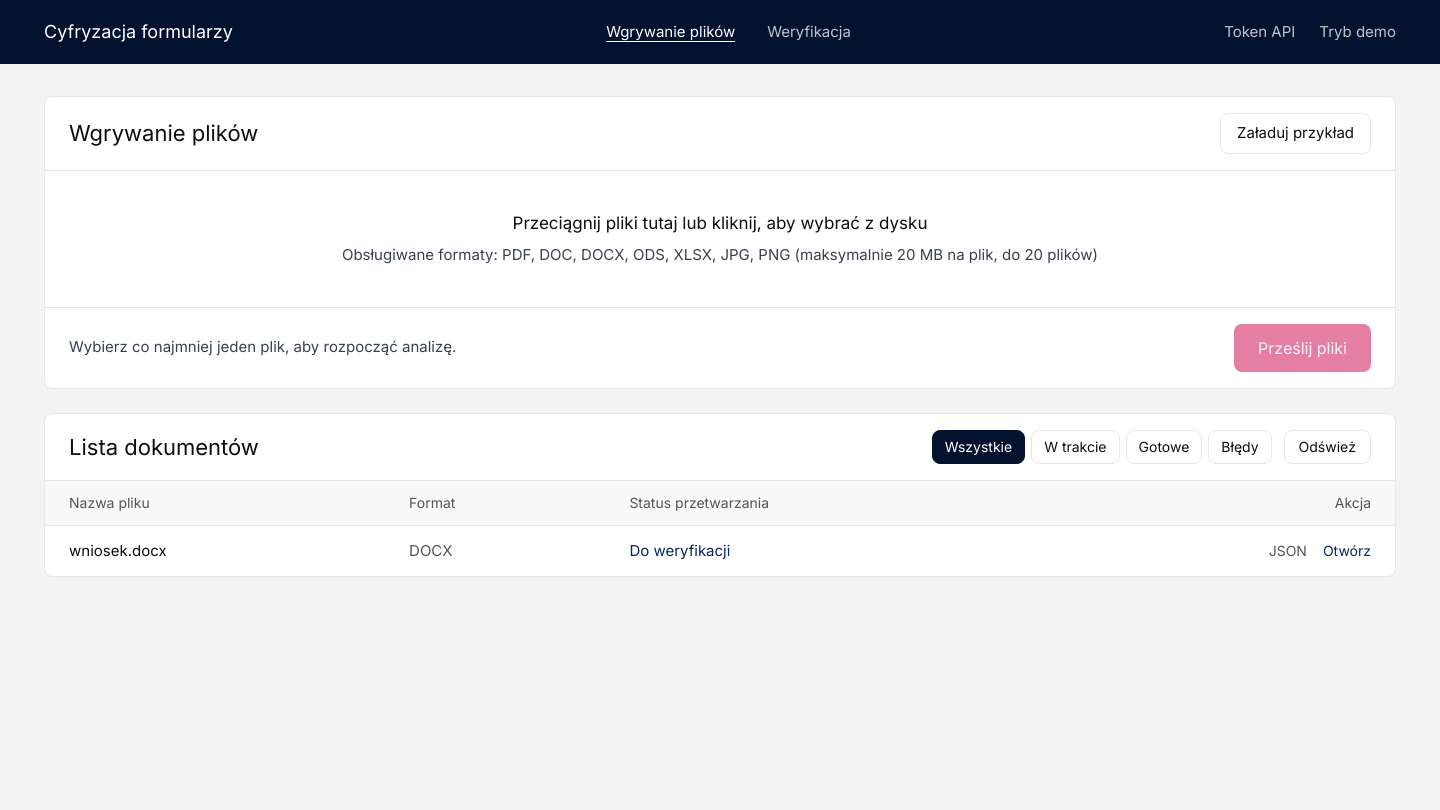
Test: Wynik analizy prosto z backendu (fragment prawdziwego wyniku pipeline’u) › otwiera wynik z API i pokazuje rozpoznane pola
The image size is (1440, 810).
Click the button "Otwórz" at (1347, 550), box x1=1323 y1=540 x2=1371 y2=560
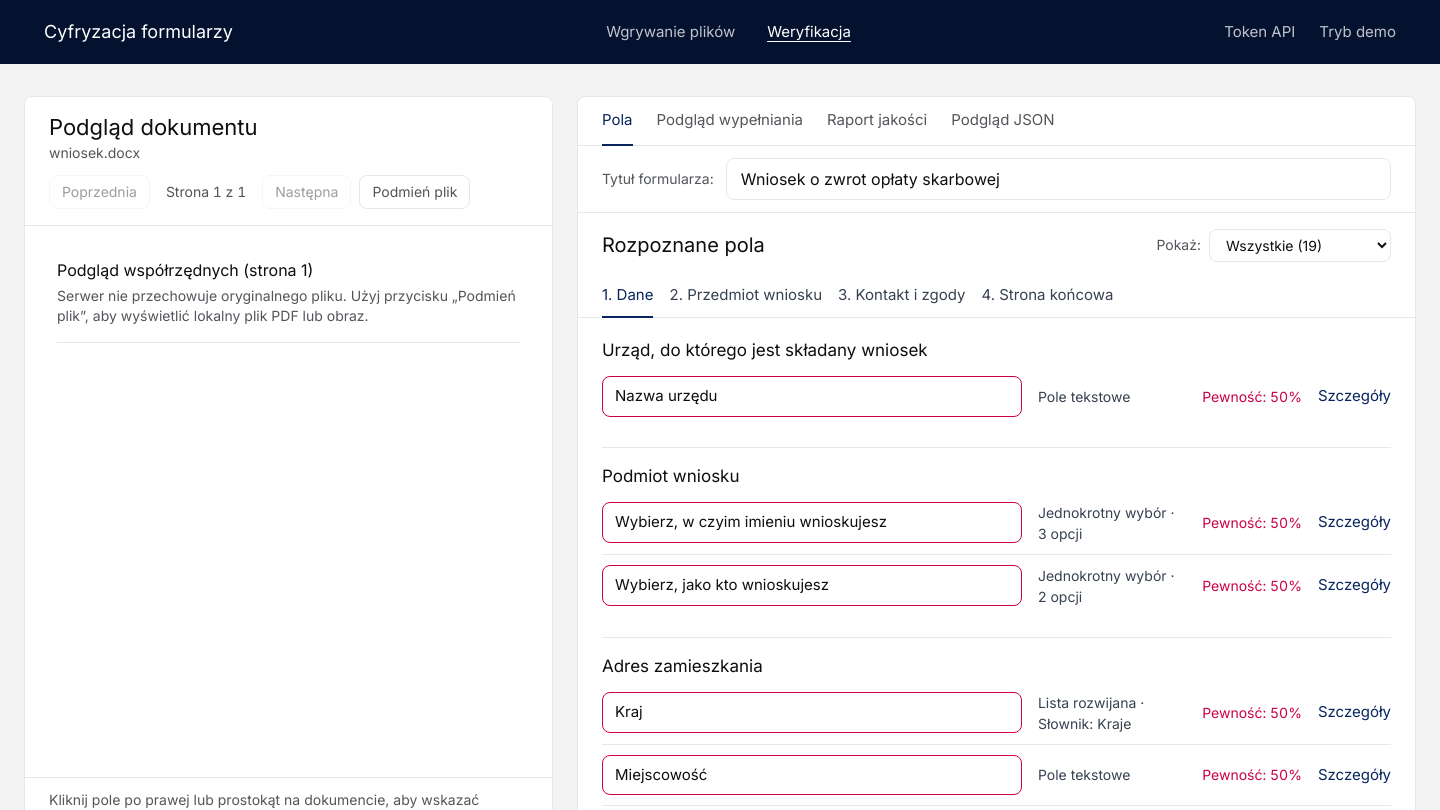
Check: the heading "Rozpoznane pola" is shown, box x1=602 y1=231 x2=765 y2=259
Check: the heading "Urząd, do którego jest składany wniosek" is shown, box x1=602 y1=338 x2=928 y2=362
Check: the button "4. Strona końcowa" is shown, box x1=982 y1=274 x2=1113 y2=318
